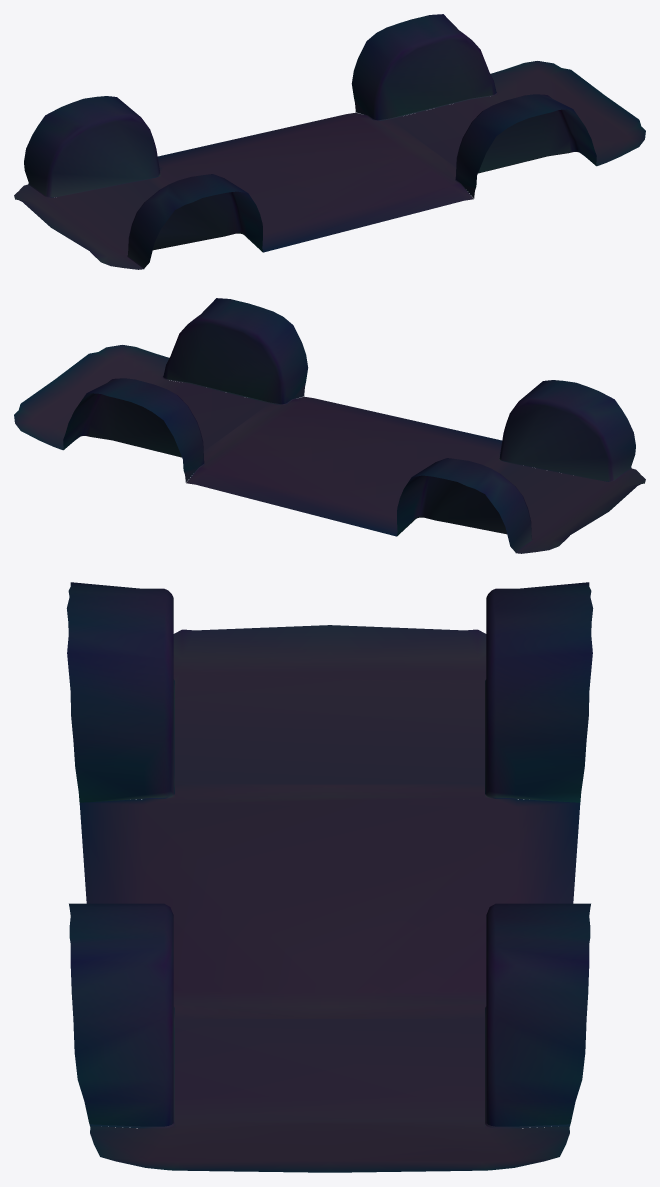
Rendered from unsorted_03.glb.
The picture shows the model from 3 angles, top to bottom: view 1: azimuth 30°, elevation 25°; view 2: azimuth 150°, elevation 25°; view 3: azimuth 270°, elevation 25°; orthographic projection. The views are drawn at different scales.
Visible parts, largest first — view 1: black_12; view 2: black_12; view 3: black_12.
Boxes of the visible parts, box(x1,y1,x2,y2) form: black_12: box(14, 14, 645, 269); black_12: box(14, 298, 645, 553); black_12: box(66, 582, 593, 1172).
Size of the model in its own units: 4.81 by 0.6141 by 1.98.
